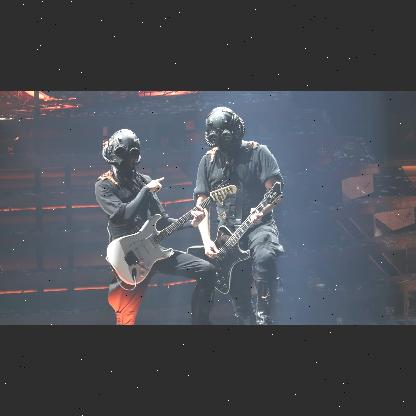guitar: (105, 184, 239, 288), (186, 180, 284, 294)
